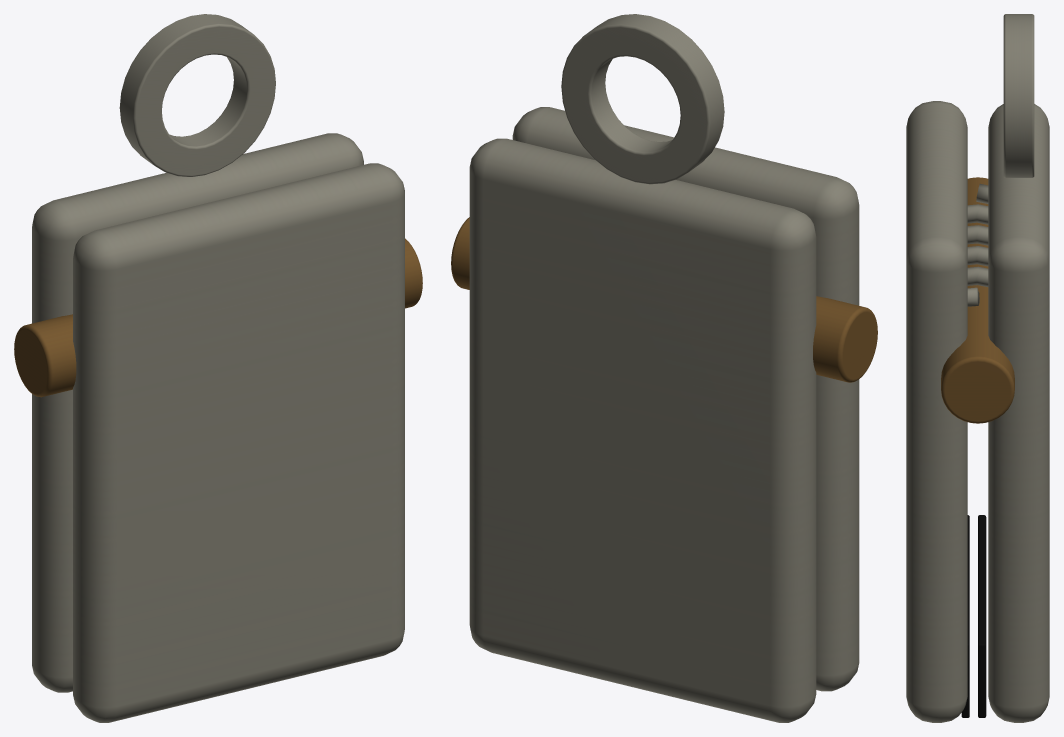
The model's file is C06_NegativeClip.fbx.
3 renders of one model, left to right at view 1: azimuth 30°, elevation 25°; view 2: azimuth 150°, elevation 25°; view 3: azimuth 270°, elevation 25°, orthographic. The views are drawn at different scales.
Visible parts, largest first — view 1: ClipJaw_Mesh, MotionPivot_Mesh; view 2: MotionPivot_Mesh, ClipJaw_Mesh; view 3: MotionPivot_Mesh, ClipJaw_Mesh.
Part boxes in pixels (<box>): ClipJaw_Mesh: <box>73,163,404,722</box>; MotionPivot_Mesh: <box>14,14,422,692</box>; MotionPivot_Mesh: <box>451,14,877,722</box>; ClipJaw_Mesh: <box>512,107,859,691</box>; MotionPivot_Mesh: <box>941,14,1049,722</box>; ClipJaw_Mesh: <box>906,101,969,722</box>.
Bounding box in the file's own units: 0.021 × 0.034 × 0.007.
